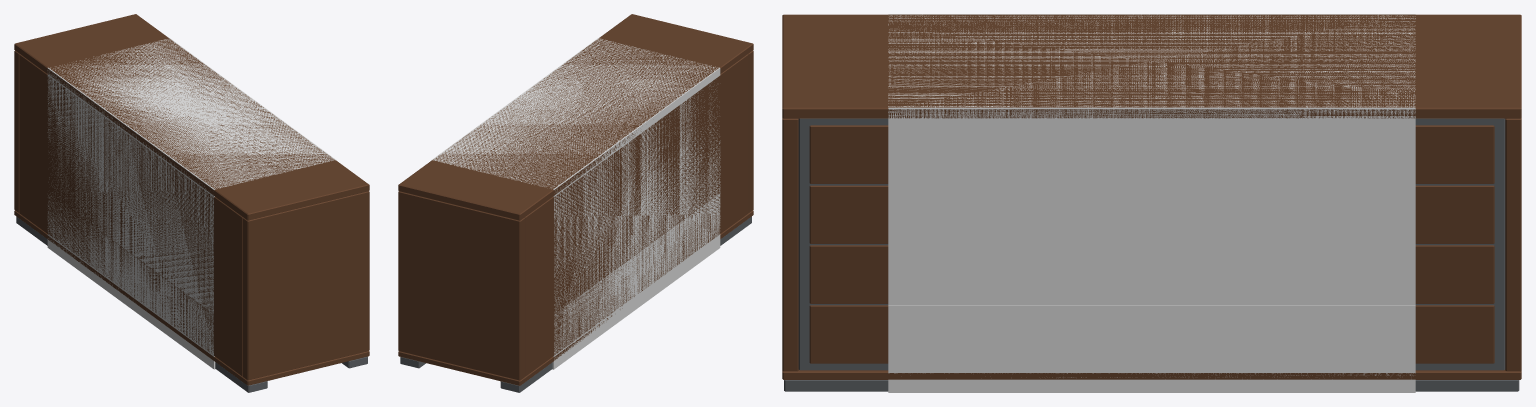
File: media_console.glb
The picture shows the model from 3 angles, left to right: view 1: azimuth 30°, elevation 25°; view 2: azimuth 150°, elevation 25°; view 3: azimuth 270°, elevation 25°; orthographic projection. The views are drawn at different scales.
Visible parts, largest first — view 1: WoodFurniture_0004, FamilyMediaConsole_COL, StainlessSmooth_0003; view 2: WoodFurniture_0004, FamilyMediaConsole_COL, StainlessSmooth_0003; view 3: FamilyMediaConsole_COL, WoodFurniture_0004, StainlessSmooth_0003.
Part boxes in pixels (bbox=[...]): WoodFurniture_0004: bbox=[14, 14, 369, 385]; FamilyMediaConsole_COL: bbox=[47, 38, 335, 369]; StainlessSmooth_0003: bbox=[16, 216, 367, 392]; WoodFurniture_0004: bbox=[398, 14, 753, 385]; FamilyMediaConsole_COL: bbox=[432, 38, 720, 369]; StainlessSmooth_0003: bbox=[400, 216, 751, 392]; FamilyMediaConsole_COL: bbox=[888, 14, 1415, 392]; WoodFurniture_0004: bbox=[782, 14, 1521, 379]; StainlessSmooth_0003: bbox=[784, 118, 1519, 391].
Size of the model in its own units: 0.465 by 0.6539 by 1.54.
